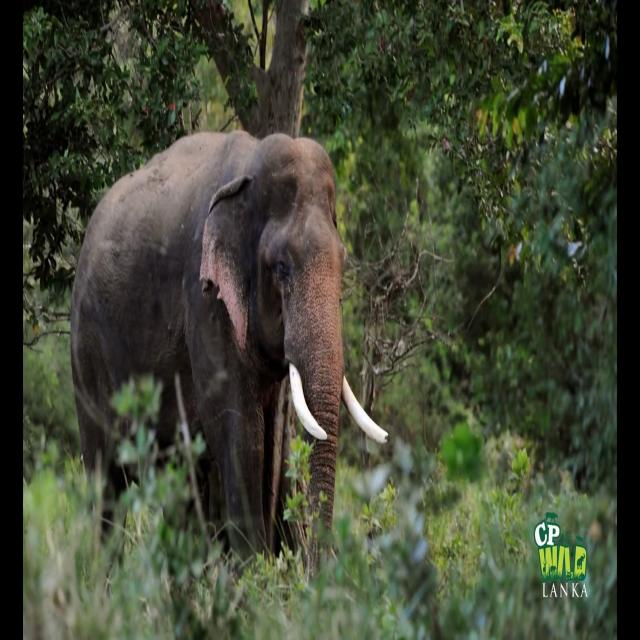Elephant: (70, 128, 388, 586)
